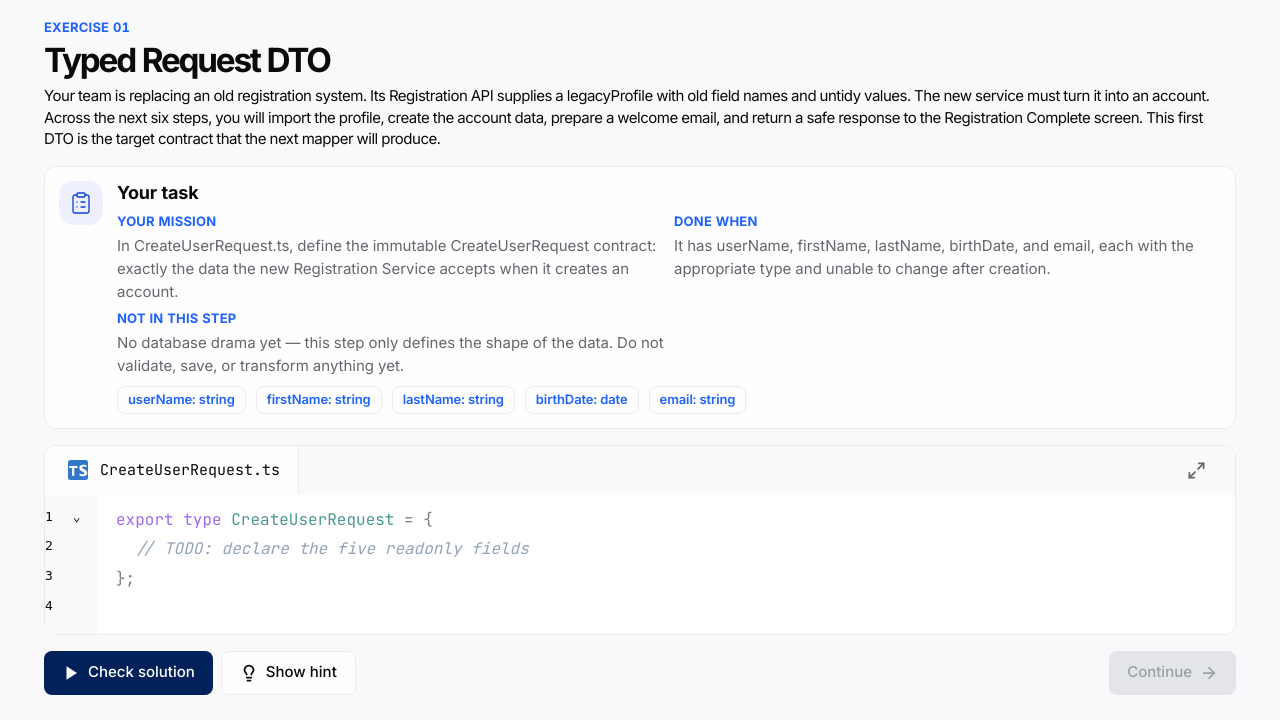
Scenario: ExerciseRunner — Task 1 (request-dto) › Insert solution settles at once, without the staged run
Check: the heading "Typed Request DTO" is shown, box top-left (44, 40), bottom-right (330, 80)
Click the button "Show hint" at coordinates (288, 672), box top-left (221, 650), bottom-right (356, 694)
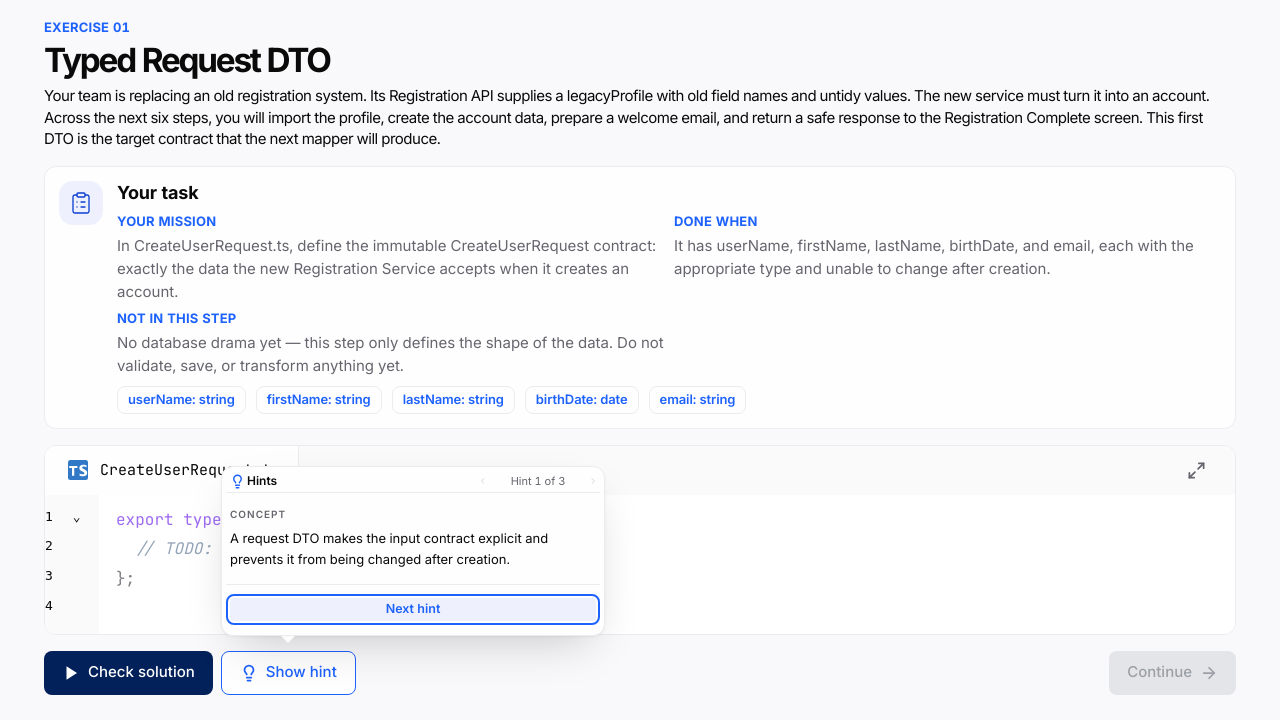
Click the button "Next hint" at coordinates (413, 609), box top-left (230, 598), bottom-right (596, 621)
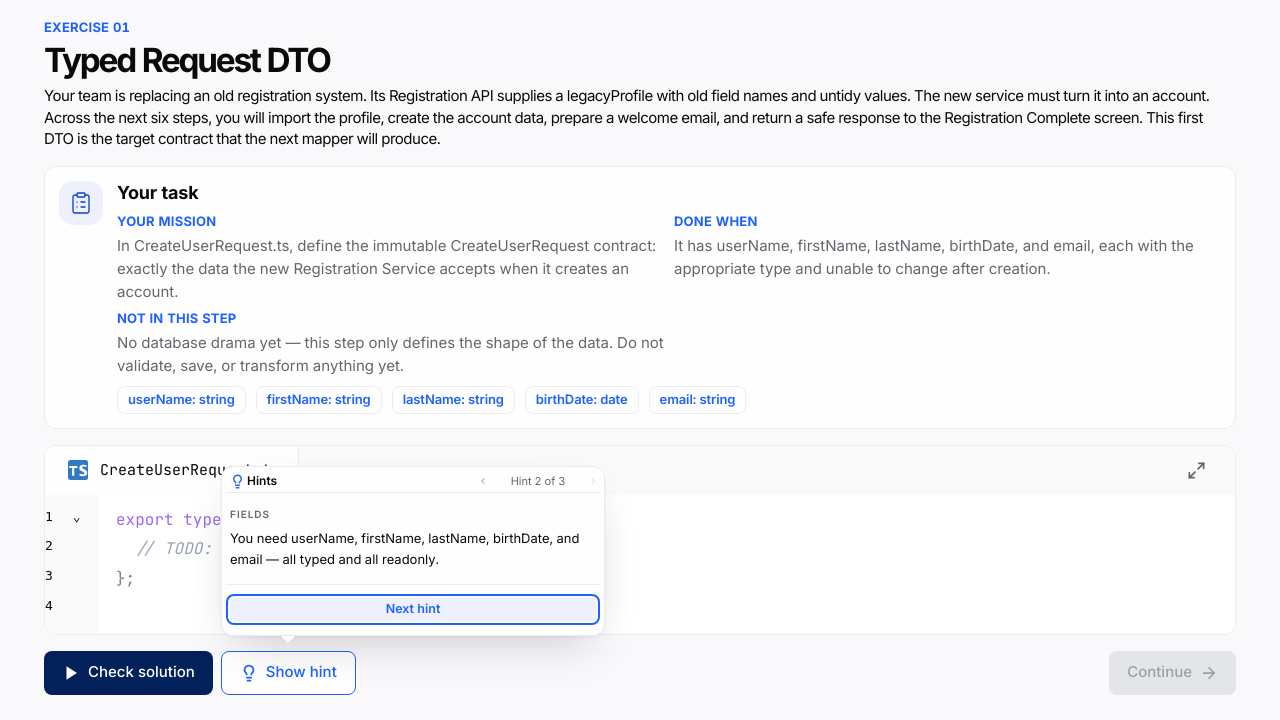
Click the button "Next hint" at coordinates (413, 609), box top-left (230, 598), bottom-right (596, 621)
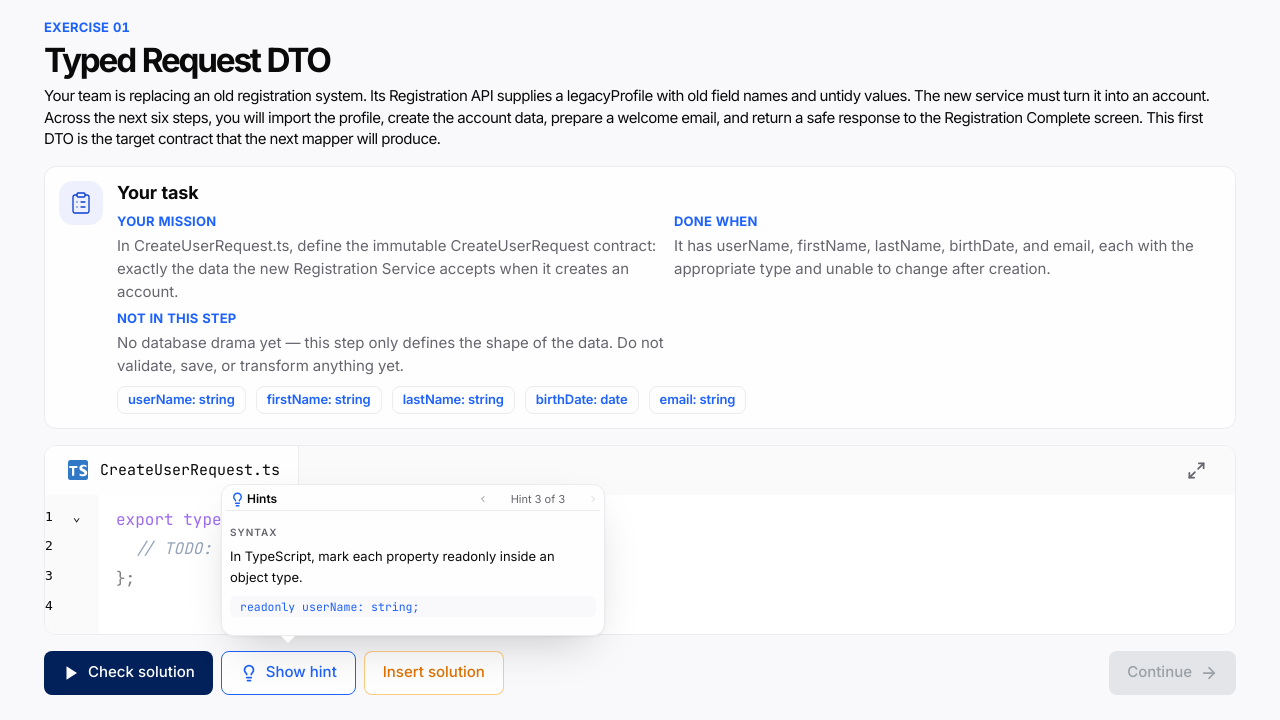
Click the button "Insert solution" at coordinates (434, 672), box top-left (364, 650), bottom-right (504, 694)
(page scrolled)
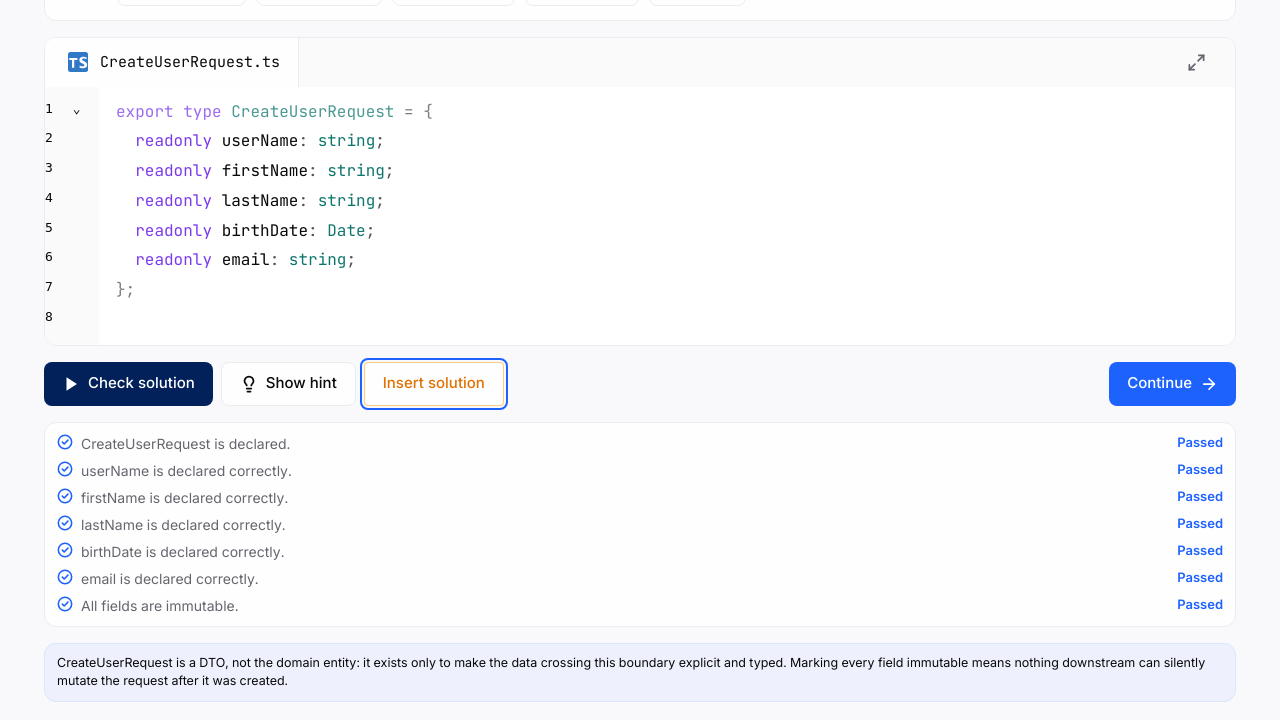
Check: the button "Continue" is enabled, box top-left (1109, 362), bottom-right (1236, 406)
